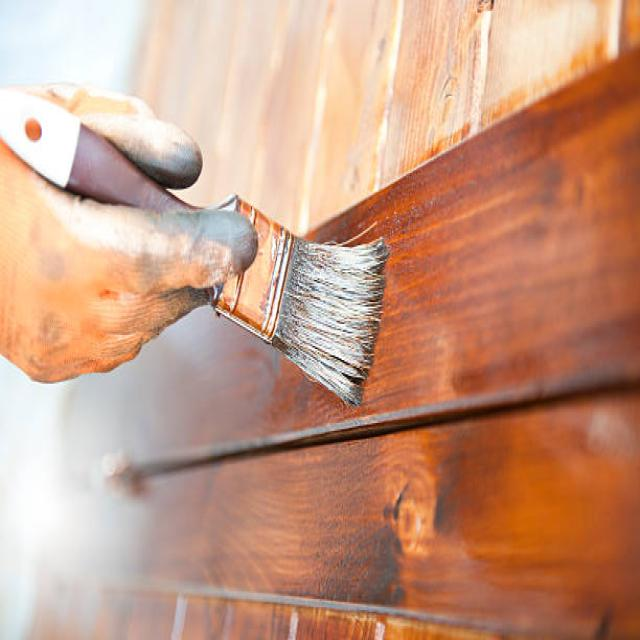gloves: (0, 80, 260, 383)
